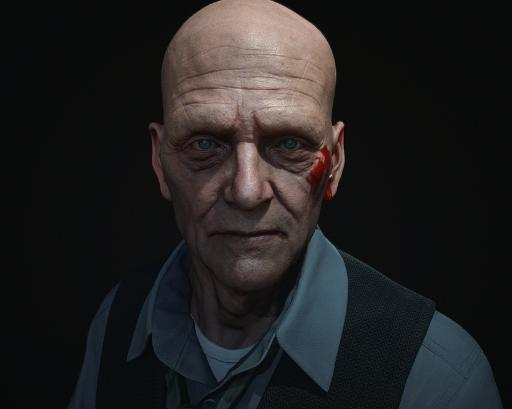left_eye: (272, 136, 317, 155)
left_lip_corner: (276, 228, 290, 244)
right_eye: (183, 137, 225, 156)
right_lip_corner: (209, 229, 225, 243)
